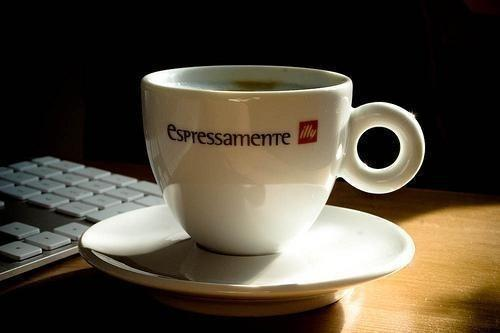cup-handle: (140, 63, 427, 258)
